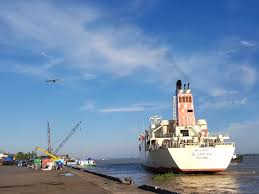tau_dansu: (137, 95, 235, 176)
